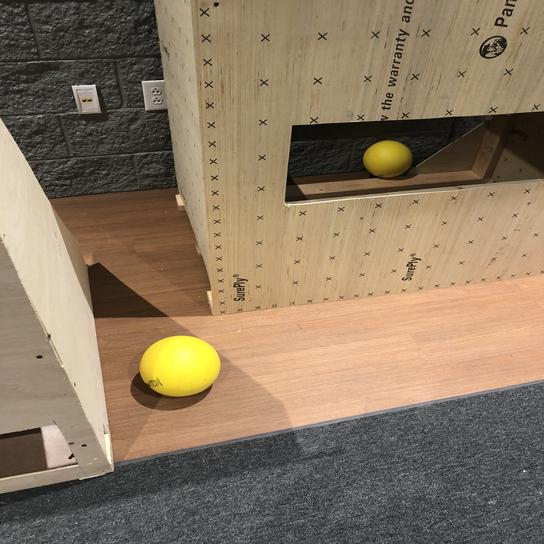ball: (136, 334, 221, 402), (360, 137, 414, 179)
